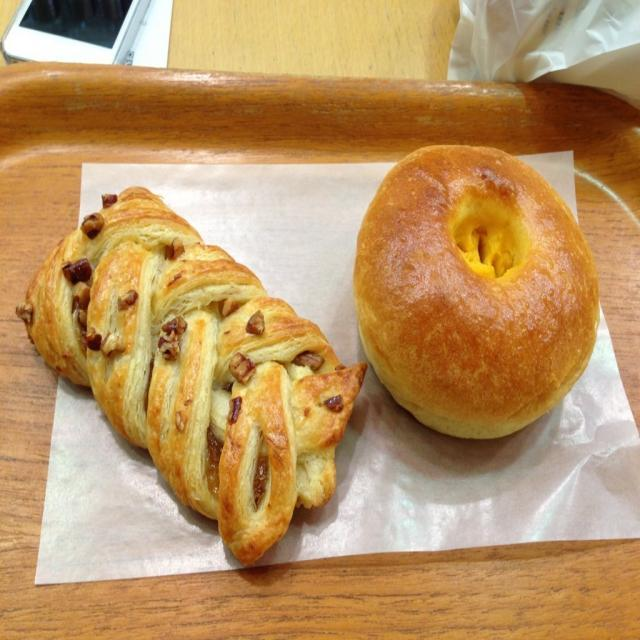Bagel: (14, 180, 364, 572), (355, 144, 602, 442)
